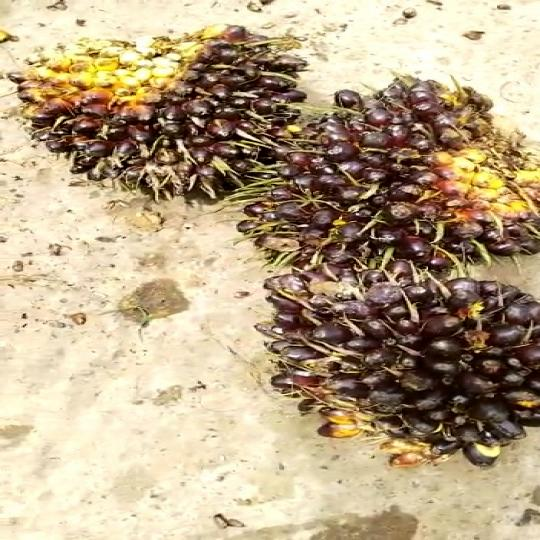mentah: (221, 87, 535, 289), (231, 273, 540, 471), (22, 14, 320, 210)
